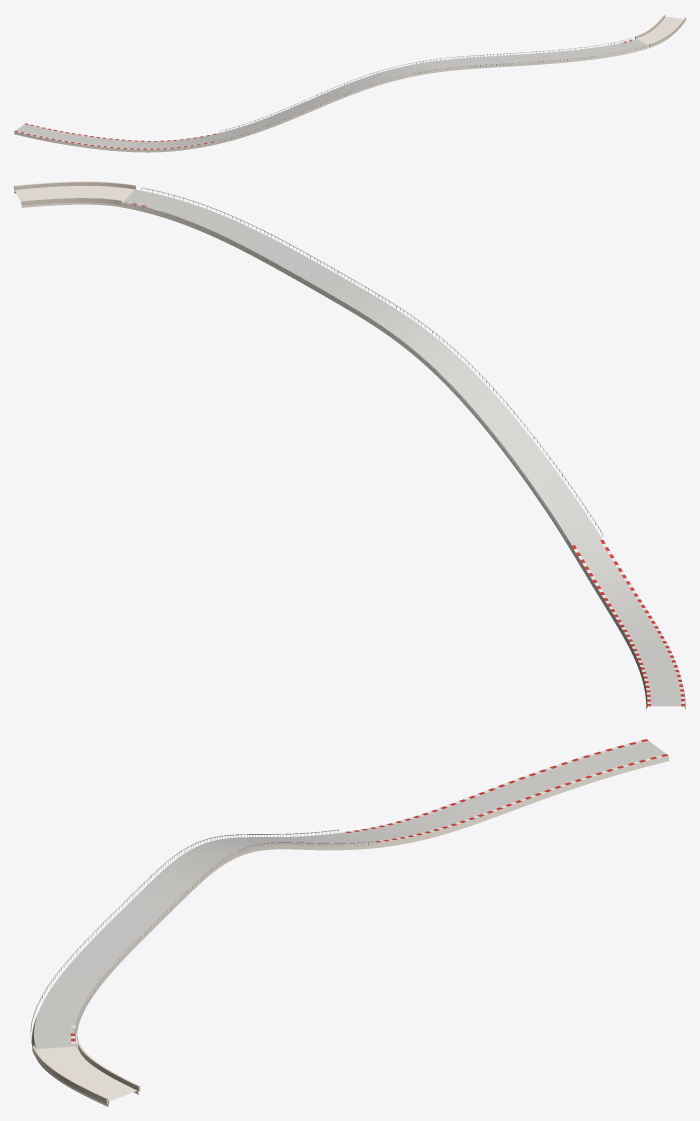
File: SM_RiyadhNights_Track_08.fbx
3 views of the same model, one above another, from view 1: azimuth 30°, elevation 25°; view 2: azimuth 150°, elevation 25°; view 3: azimuth 270°, elevation 25° (orthographic). The views are drawn at different scales.
Visible parts, largest first — view 1: SM_RiyadhNights_Track_08; view 2: SM_RiyadhNights_Track_08; view 3: SM_RiyadhNights_Track_08.
Boxes of the visible parts, x1=… form: SM_RiyadhNights_Track_08: x1=14, y1=14, x2=685, y2=152; SM_RiyadhNights_Track_08: x1=14, y1=181, x2=685, y2=709; SM_RiyadhNights_Track_08: x1=30, y1=739, x2=669, y2=1106.
Size of the model in its own units: 36898 by 5553 by 19000.
